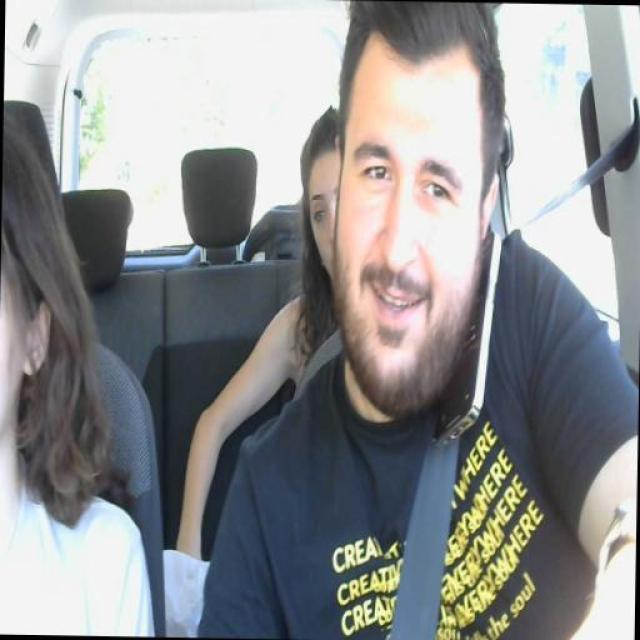phone: (434, 226, 504, 450)
